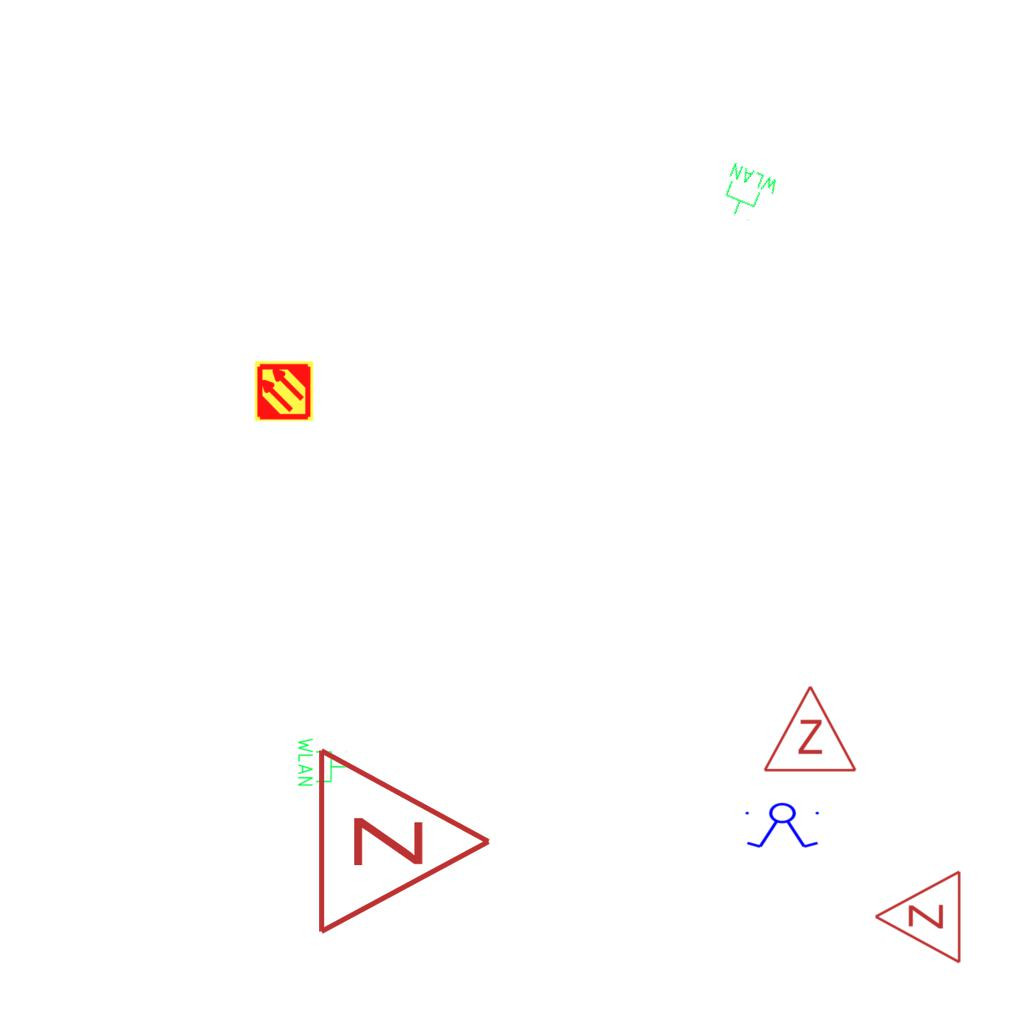ASR_Ansaugrauchmelder: (253, 360, 315, 422)
Serienschalter: (741, 802, 825, 850)
WLAN: (714, 160, 782, 228), (296, 736, 348, 788)
Zimmersignalleuchte: (304, 741, 504, 937), (760, 679, 858, 779), (868, 869, 968, 967)
